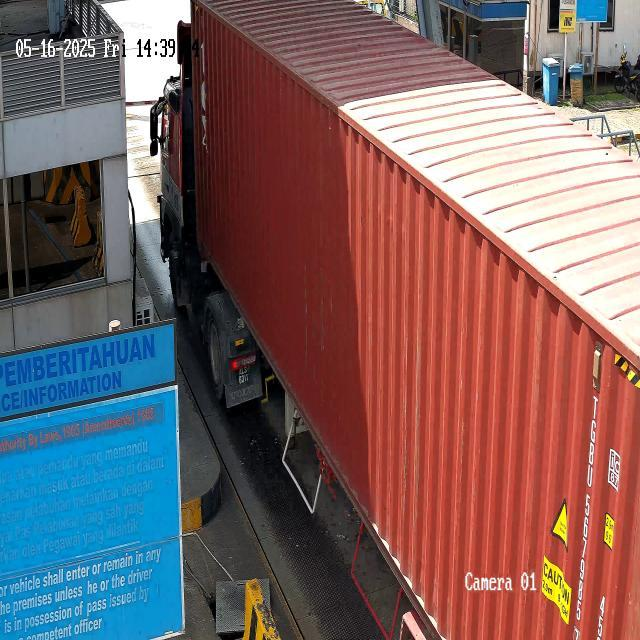container_number: (560, 397, 611, 640)
